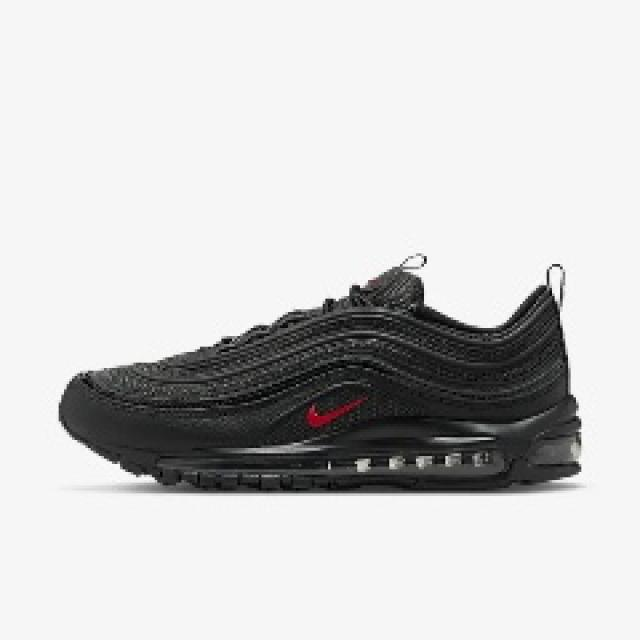shoes: (44, 235, 608, 500)
